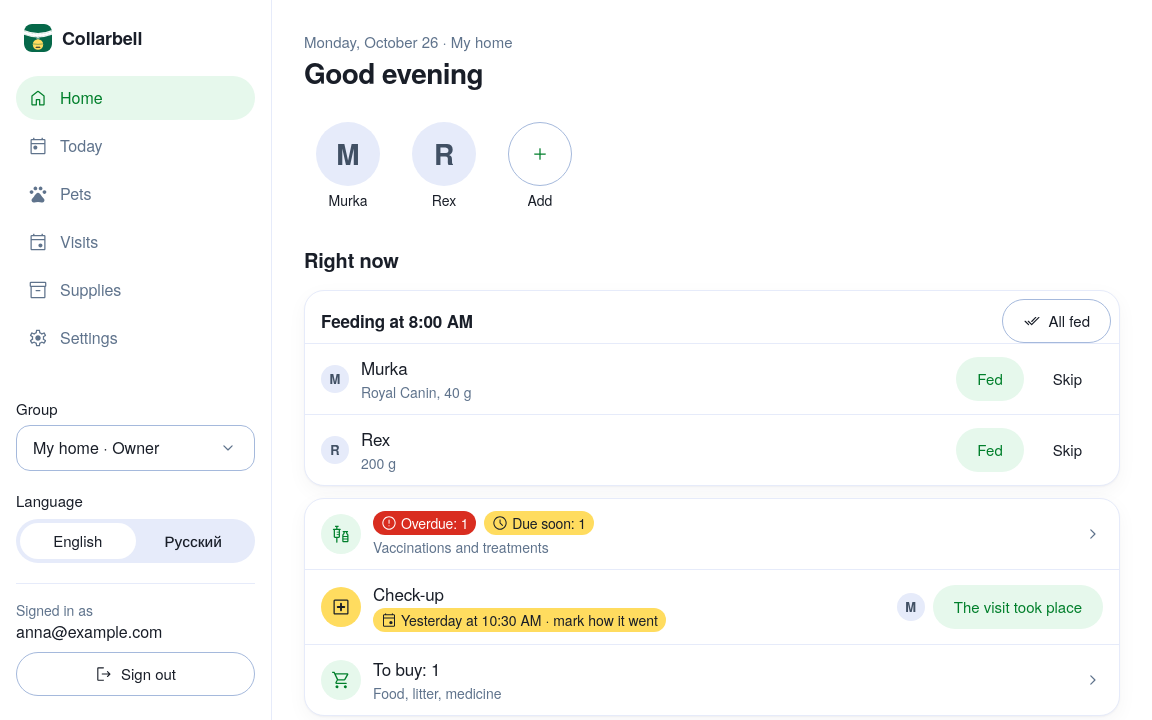
it: Home › opens at /, with the pets, what is important right now and the quick actions
The image size is (1152, 720).
Expected: the heading "Feeding at 8:00 AM" is shown, top-left (321, 309), bottom-right (473, 333)
Expected: the number of buttons "Fed" is 2, top-left (956, 357), bottom-right (1024, 401); top-left (956, 428), bottom-right (1024, 472)
Click the link "Overdue: 1 Due soon: 1" at (483, 523), box top-left (373, 511), bottom-right (594, 535)
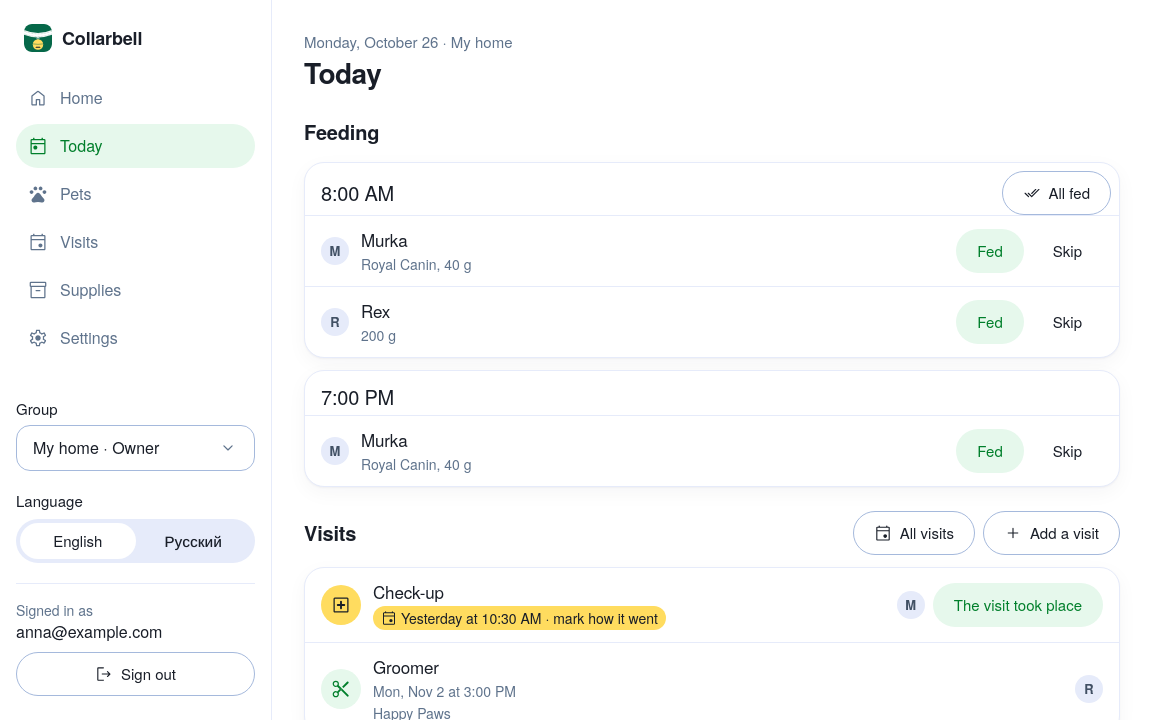
Now the heading "Today" is shown, box top-left (304, 56), bottom-right (381, 90)
